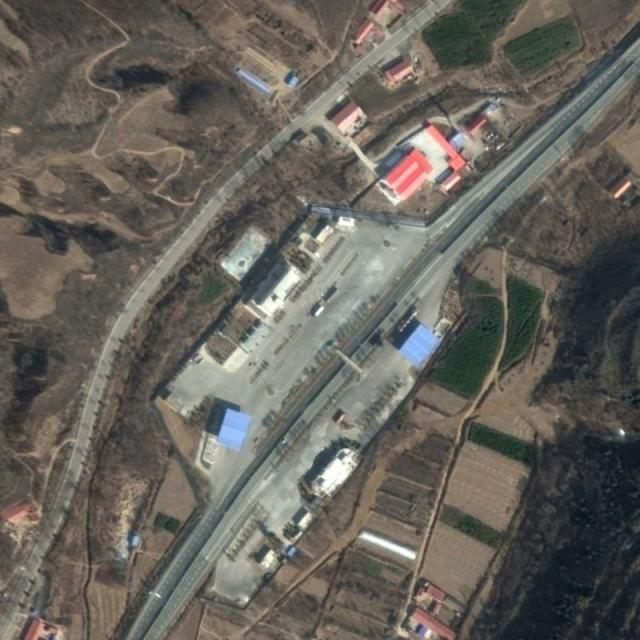vehicle: (398, 308, 419, 332), (325, 288, 340, 303), (313, 305, 326, 318), (336, 414, 345, 424)
